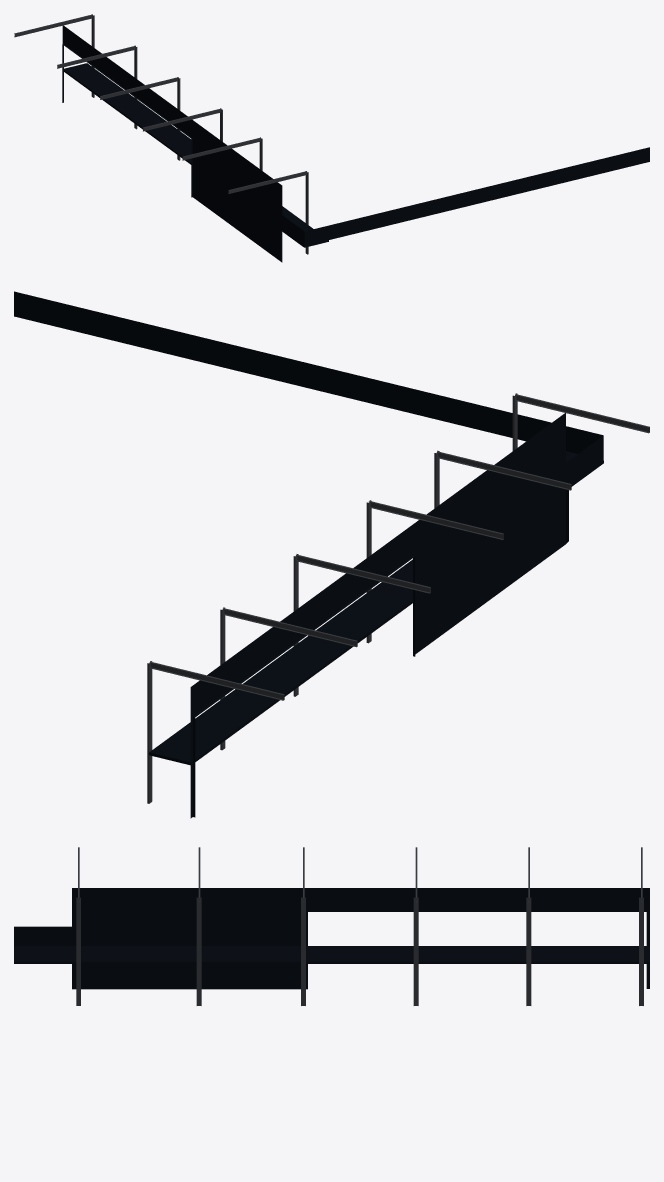
The model's file is SW_corridor__R_lobby_R_Aula_outsideWall.FBX.
3 renders of one model, top to bottom at view 1: azimuth 30°, elevation 25°; view 2: azimuth 150°, elevation 25°; view 3: azimuth 270°, elevation 25°, orthographic. The views are drawn at different scales.
Parts seen in each view (by area): view 1: SW_corridor__R_lobby_R_Aula_outsideWall; view 2: SW_corridor__R_lobby_R_Aula_outsideWall; view 3: SW_corridor__R_lobby_R_Aula_outsideWall.
Boxes of the visible parts, x1,y1,x2,y2 form: SW_corridor__R_lobby_R_Aula_outsideWall: (14, 14, 649, 262); SW_corridor__R_lobby_R_Aula_outsideWall: (14, 291, 649, 818); SW_corridor__R_lobby_R_Aula_outsideWall: (14, 847, 649, 1005).
Size of the model in its own units: 3207 by 3386 by 641.
